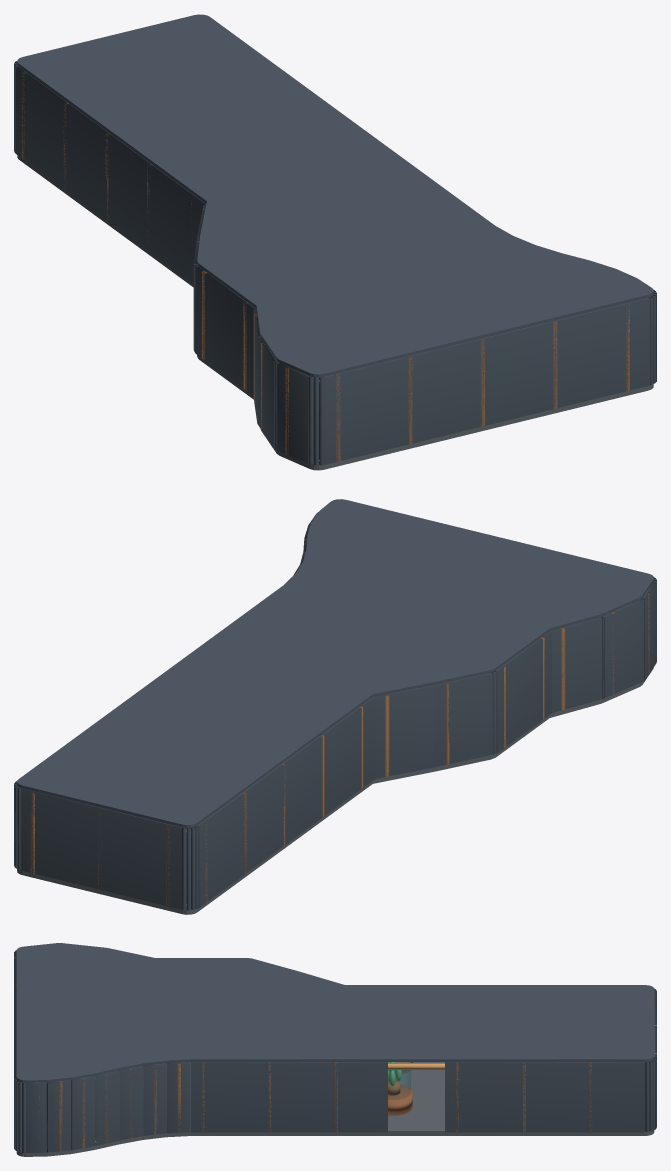
File: Xenobiology.glb
3 views of the same model, one above another, from view 1: azimuth 30°, elevation 25°; view 2: azimuth 150°, elevation 25°; view 3: azimuth 270°, elevation 25° (orthographic). The views are drawn at different scales.
Parts seen in each view (by area): view 1: Ceiling_panel, Wall (×5), Xenobiology_floor; view 2: Ceiling_panel, Wall (×8), Xenobiology_floor; view 3: Ceiling_panel, Wall (×12), Xenobiology_floor, Specimen_glass, Specimen_base, Door_header.
Boxes of the visible parts, <box> form: Ceiling_panel: <box>17,14,653,377</box>; Wall (×5): <box>16,67,649,464</box>; Xenobiology_floor: <box>17,155,653,470</box>; Ceiling_panel: <box>17,499,653,828</box>; Wall (×8): <box>20,582,656,909</box>; Xenobiology_floor: <box>17,667,653,914</box>; Ceiling_panel: <box>16,943,654,1082</box>; Wall (×12): <box>14,953,653,1152</box>; Xenobiology_floor: <box>16,1062,654,1156</box>; Specimen_glass: <box>388,1062,410,1099</box>; Specimen_base: <box>388,1084,412,1115</box>; Door_header: <box>388,1063,444,1069</box>.
Size of the model in its own units: 13.88 by 3.55 by 27.02.
